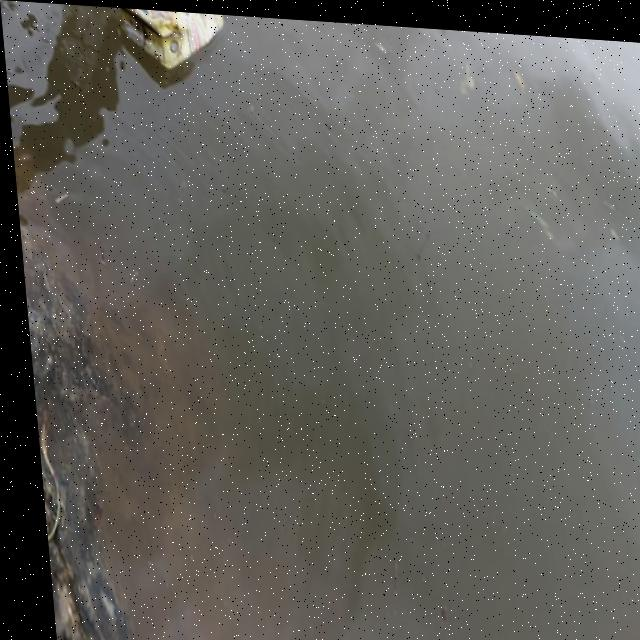paper: (102, 5, 246, 69)
